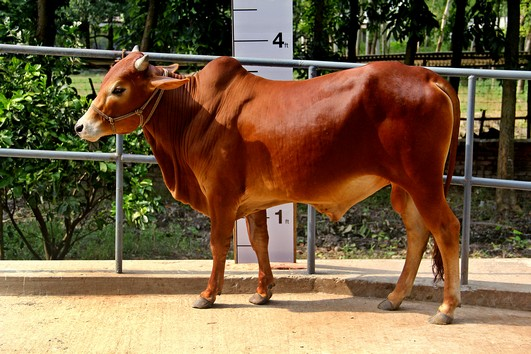cow: (68, 45, 473, 325)
